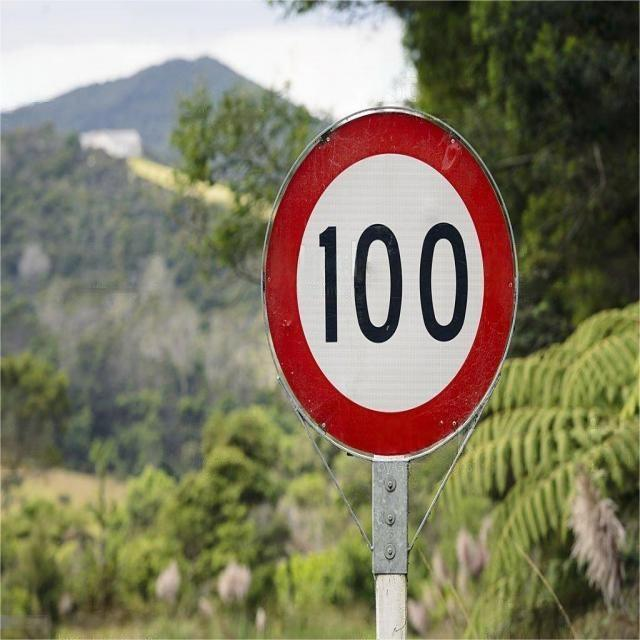speed limit 100: (261, 106, 519, 458)
